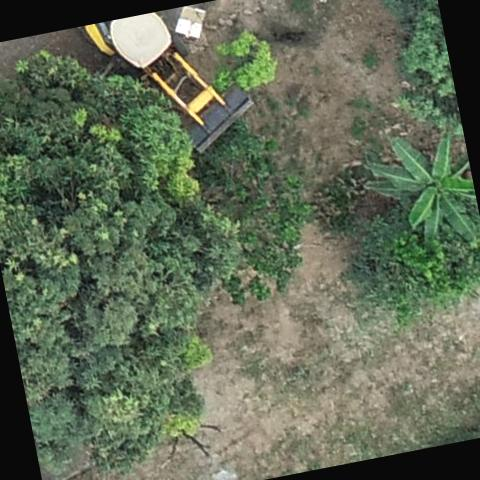Banana-plant: (350, 113, 480, 272)
